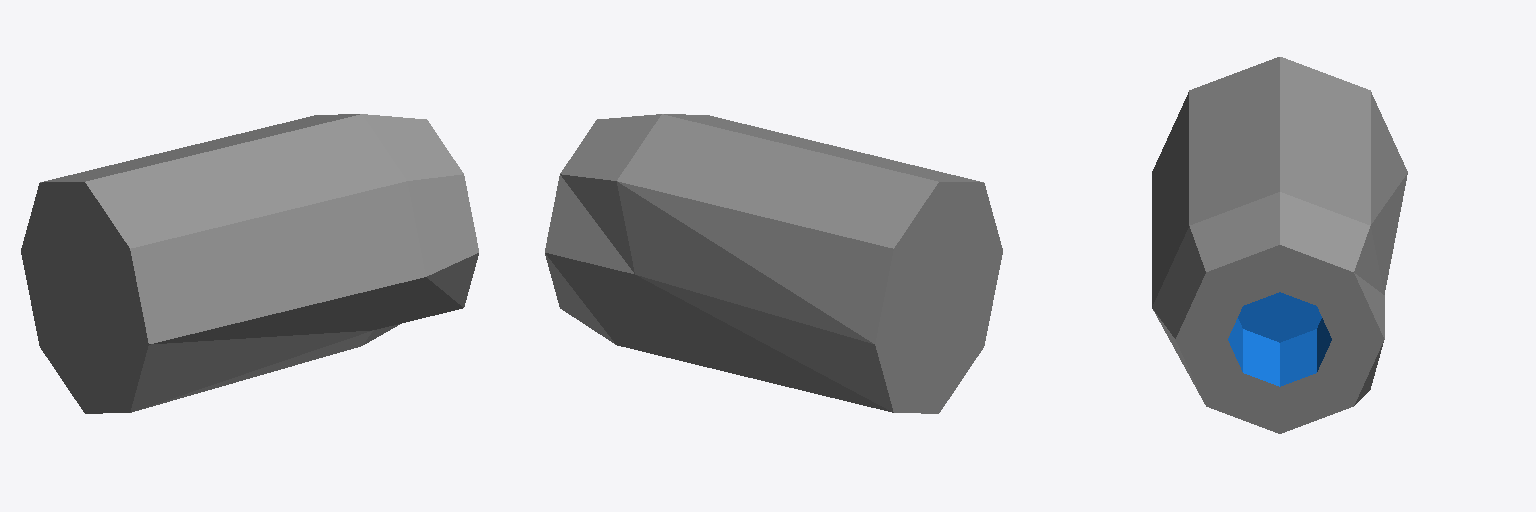
Rendered from Transporter-Component-1.obj.
The picture shows the model from 3 angles: view 1: azimuth 30°, elevation 25°; view 2: azimuth 150°, elevation 25°; view 3: azimuth 270°, elevation 25°; orthographic projection.
Parts seen in each view (by area): view 1: Transporter-Component-1; view 2: Transporter-Component-1; view 3: Transporter-Component-1.
Boxes of the visible parts, x1=… form: Transporter-Component-1: x1=21, y1=114, x2=478, y2=413; Transporter-Component-1: x1=545, y1=114, x2=1002, y2=413; Transporter-Component-1: x1=1152, y1=57, x2=1407, y2=433.
Size of the model in its own units: 0.3781 by 0.245 by 0.245.